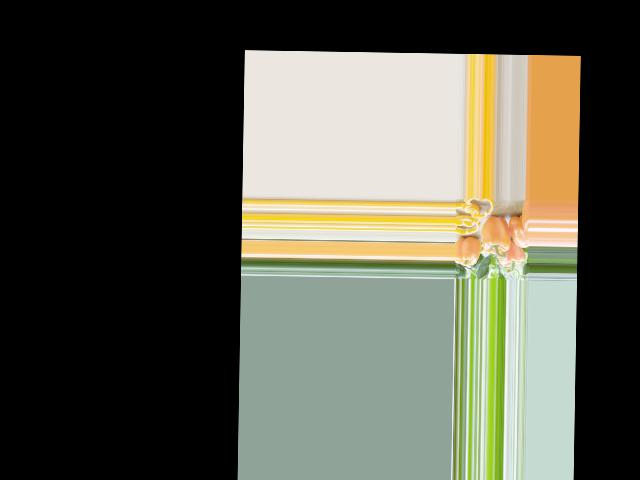bell_pepper: (509, 213, 529, 248)
